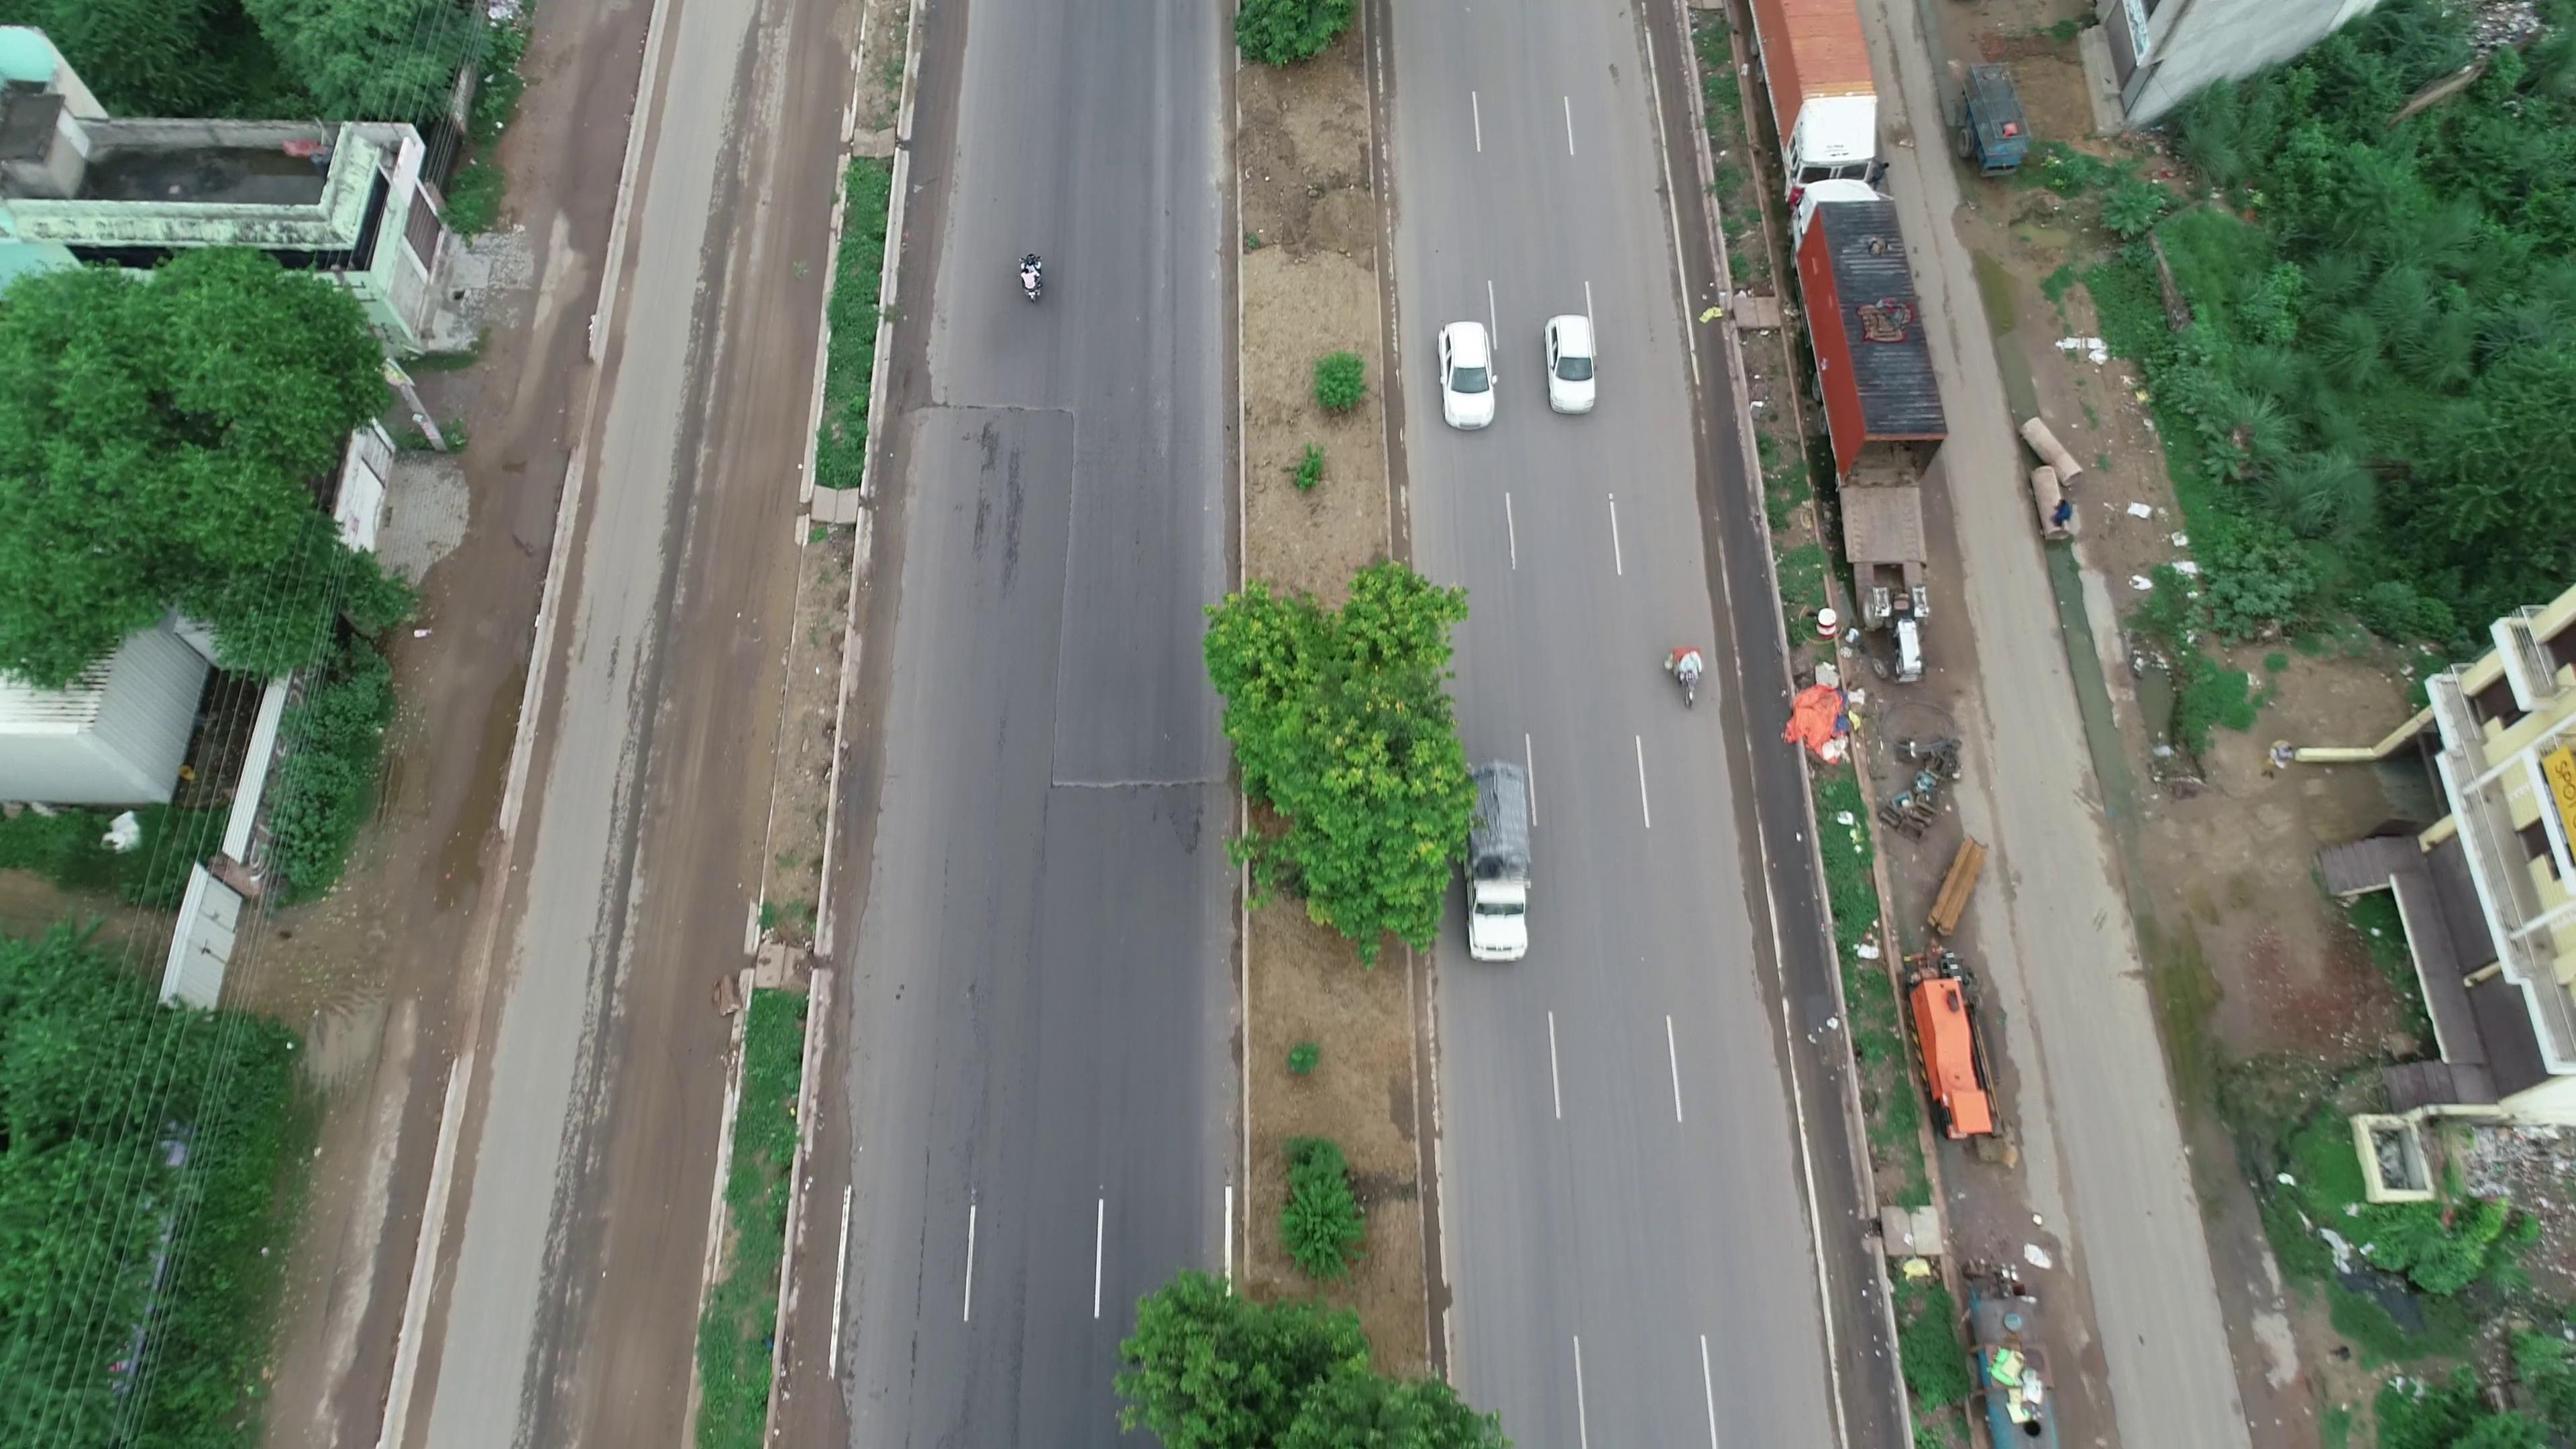Muddy_road: (655, 488, 796, 899)
